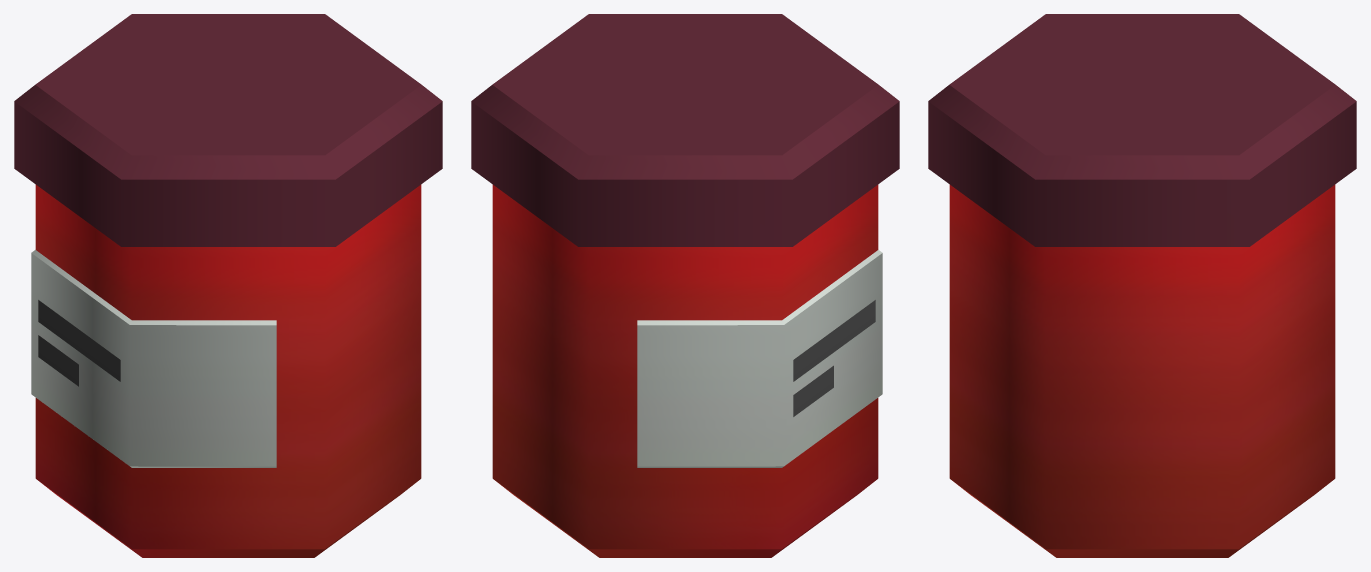
Rendered from Jar_1_B.fbx.
The picture shows the model from 3 angles, left to right: view 1: azimuth 30°, elevation 25°; view 2: azimuth 150°, elevation 25°; view 3: azimuth 270°, elevation 25°; orthographic projection.
Parts seen in each view (by area): view 1: Jar_1_B; view 2: Jar_1_B; view 3: Jar_1_B.
Boxes of the visible parts, bbox=[...] form: Jar_1_B: bbox=[14, 14, 442, 557]; Jar_1_B: bbox=[471, 14, 899, 557]; Jar_1_B: bbox=[928, 14, 1356, 557].
Bounding box in the file's own units: 17.99 × 21.94 × 20.77.
